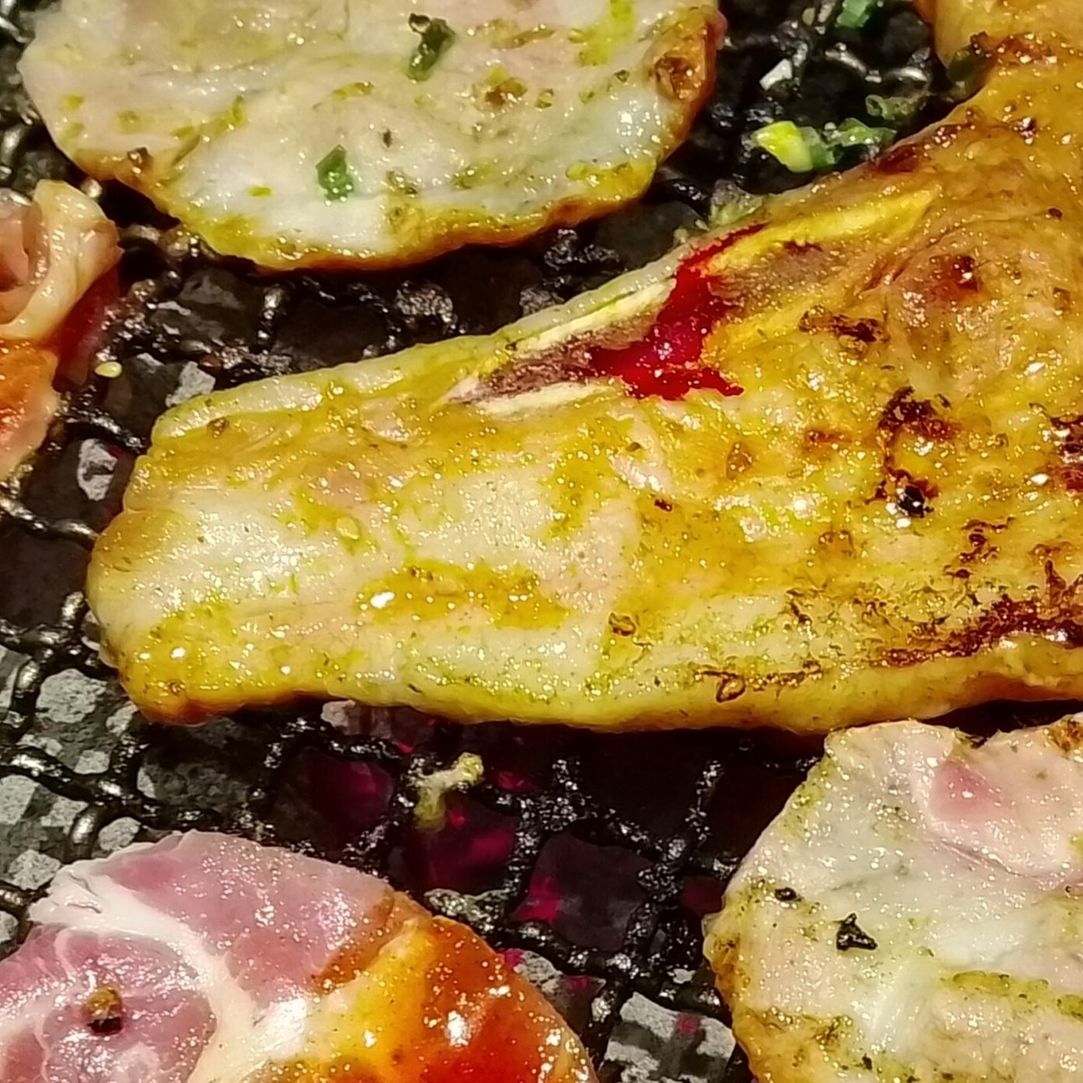Undercooked: (0, 833, 606, 1082)
Well-Cooked: (84, 0, 1082, 742), (14, 0, 735, 280), (701, 711, 1082, 1082)
